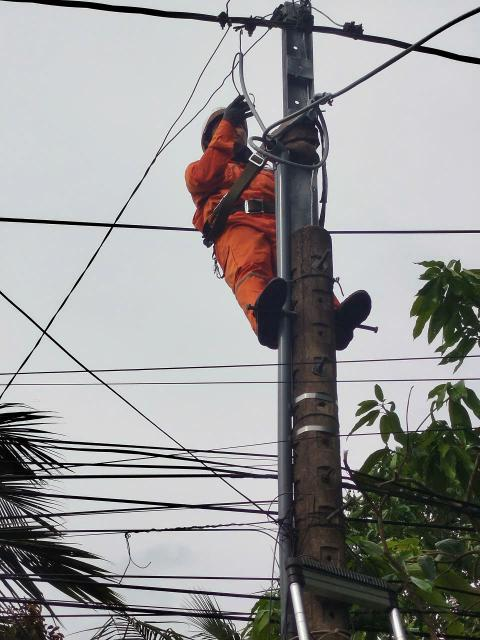gloves: (218, 91, 262, 124)
harness: (193, 188, 311, 230)
helmet: (192, 92, 280, 158)
shoes: (328, 279, 384, 366), (242, 271, 296, 343)
